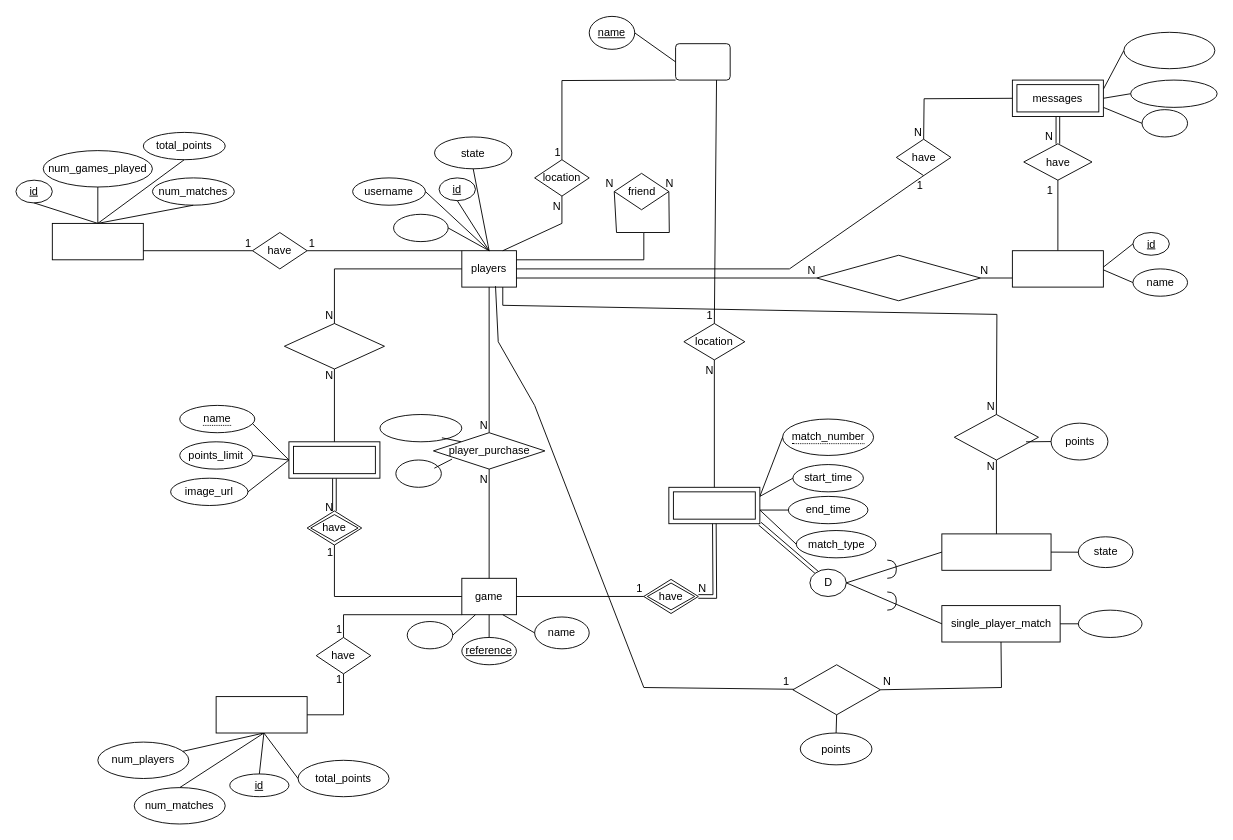
Image size: 1233x840. Some labels were removed from this diagram. The centre of each missing label's shape, as x and y in pixels:
"badges" belongs at pixel 334 459.
"conversations" belongs at pixel 1057 268.
"difficulty" belongs at pixel 1109 623.
"email" belongs at pixel 420 227.
"game_stats" belongs at pixel 261 714.
"matches" belongs at pixel 714 505.
"message_number" belongs at pixel 1169 50.
"multi_player_match" belongs at pixel 996 551.
"player_badge" belongs at pixel 333 346.
"player_stats" belongs at pixel 97 241.
"players_conversatation" belongs at pixel 898 277.
"plays_multi" belongs at pixel 995 437.
"plays_single" belongs at pixel 836 689.
"price" belongs at pixel 418 473.
"purchase_date" belongs at pixel 420 428.
"region" belongs at pixel 702 61.
"sent_time" belongs at pixel 1173 93.
"text" belongs at pixel 1164 123.
"url" belongs at pixel 429 635.
